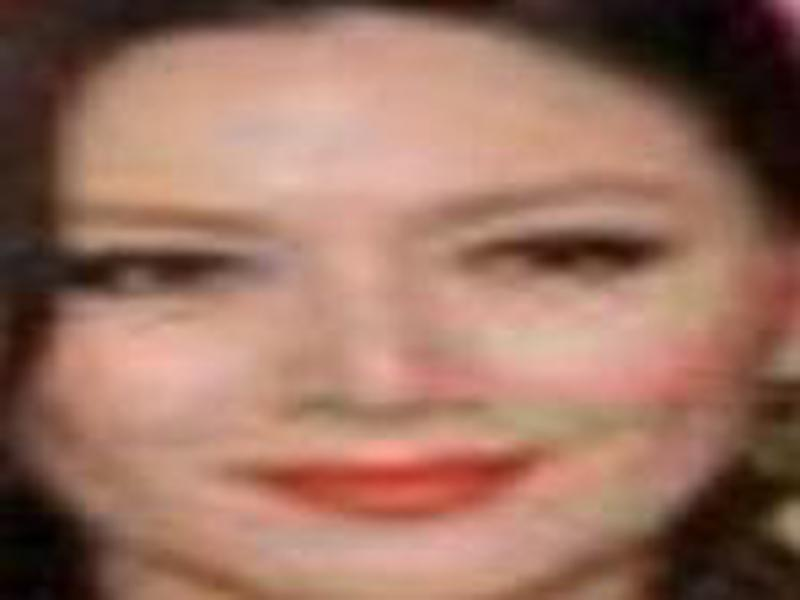without_mask: (21, 31, 749, 593)
